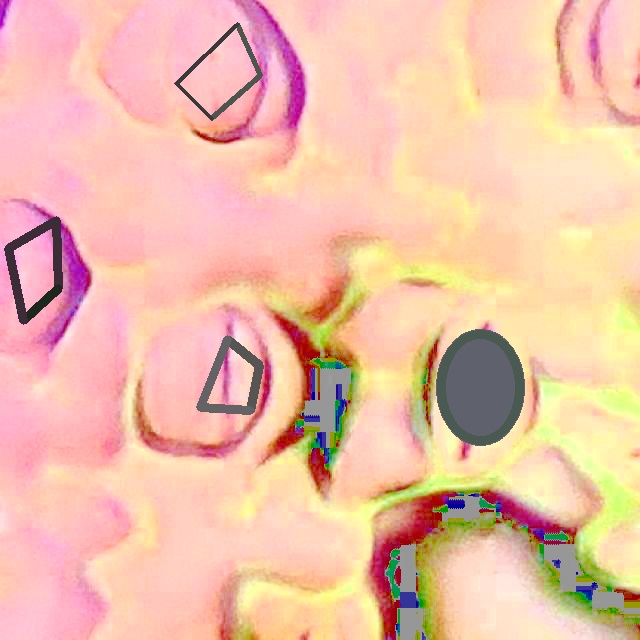close: (174, 22, 261, 119), (4, 217, 61, 324), (196, 335, 263, 414)
open: (436, 328, 525, 446)
